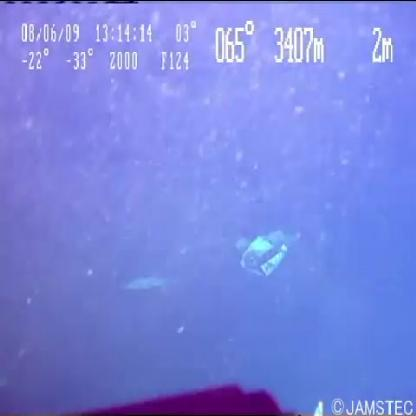Rác: (237, 213, 327, 299)
